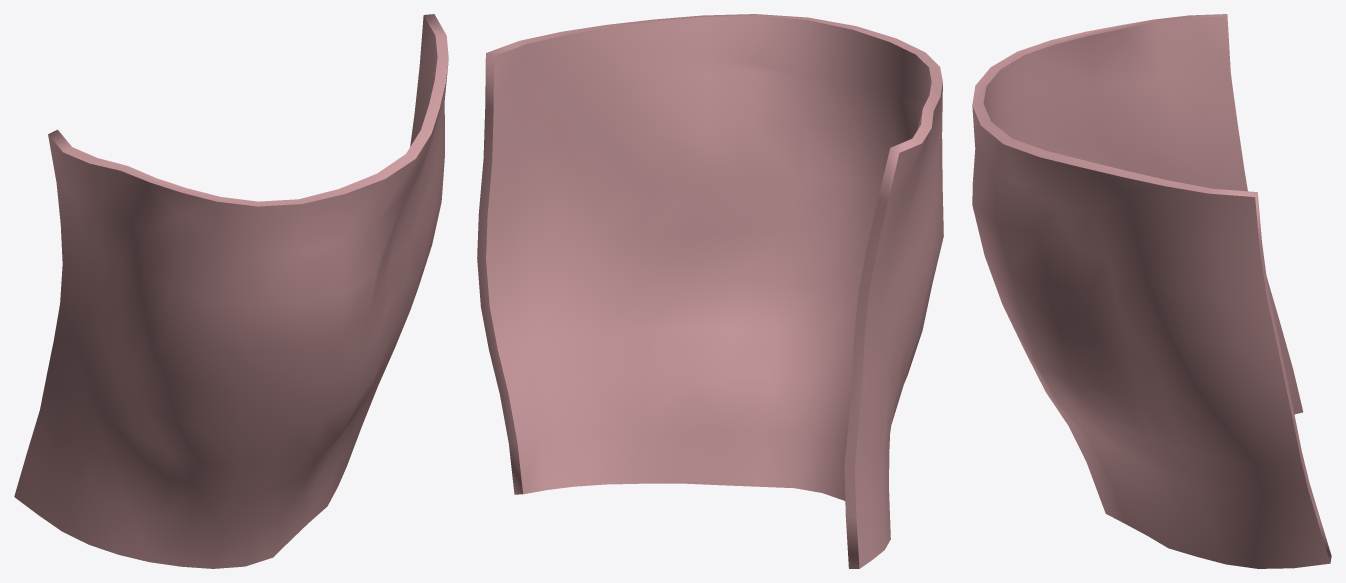
The picture shows the model from 3 angles, left to right: view 1: azimuth 30°, elevation 25°; view 2: azimuth 150°, elevation 25°; view 3: azimuth 270°, elevation 25°; orthographic projection.
Parts seen in each view (by area): view 1: ZA_5bac518f7385b0f5; view 2: ZA_5bac518f7385b0f5; view 3: ZA_5bac518f7385b0f5.
Part boxes in pixels (bbox=[...]): ZA_5bac518f7385b0f5: bbox=[14, 14, 448, 568]; ZA_5bac518f7385b0f5: bbox=[477, 14, 943, 568]; ZA_5bac518f7385b0f5: bbox=[972, 14, 1331, 568].
Size of the model in its own units: 0.1236 by 0.1263 by 0.0951.
